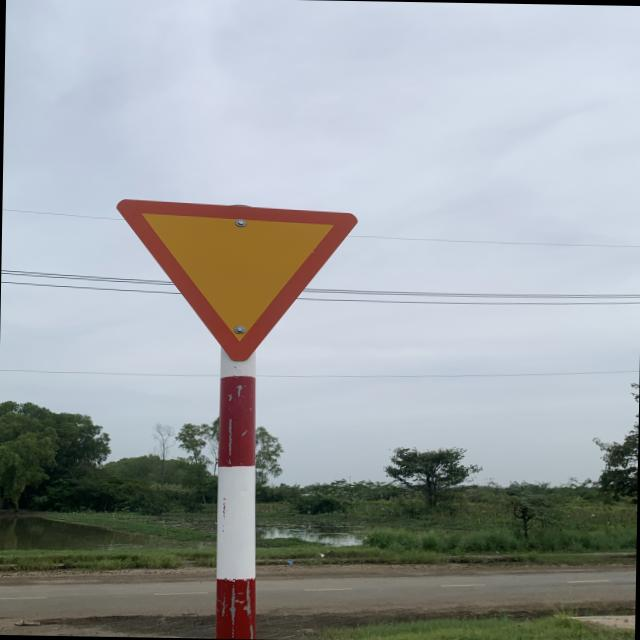Gioi_Han_Toc_Do_25: (113, 197, 360, 366)
